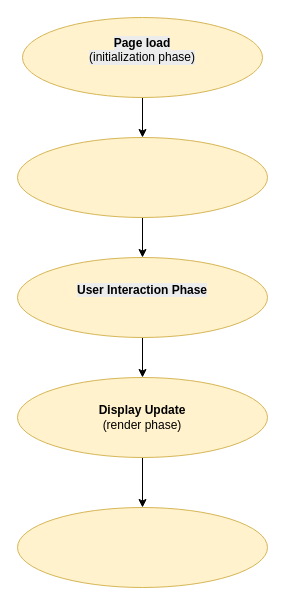
Some shapes in this 285 by 605 pixel diagram are drawn without their labels. The shapes that lost their labels are listed below. From the top down, each one's centre as x and y in pixels, then its label:
At point 142,177: "DOMConententLoaded Event (ready state)".
At point 142,547: "Idle/Footer Phase".
